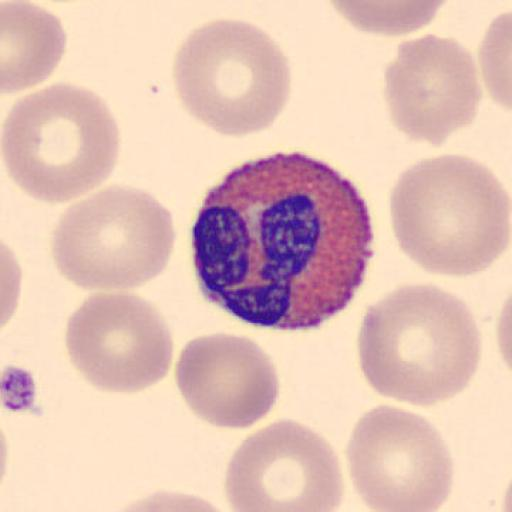RBC: (355, 281, 483, 409), (388, 152, 512, 280), (0, 78, 122, 206), (172, 16, 293, 139), (49, 182, 179, 292), (345, 402, 456, 512), (381, 31, 484, 148), (223, 416, 346, 512), (64, 290, 175, 396), (174, 332, 281, 430), (1, 0, 67, 95), (323, 0, 451, 38), (478, 8, 512, 115), (102, 489, 241, 512), (0, 237, 23, 334), (495, 289, 512, 385), (496, 296, 512, 375)
WBC: (190, 150, 376, 332)
